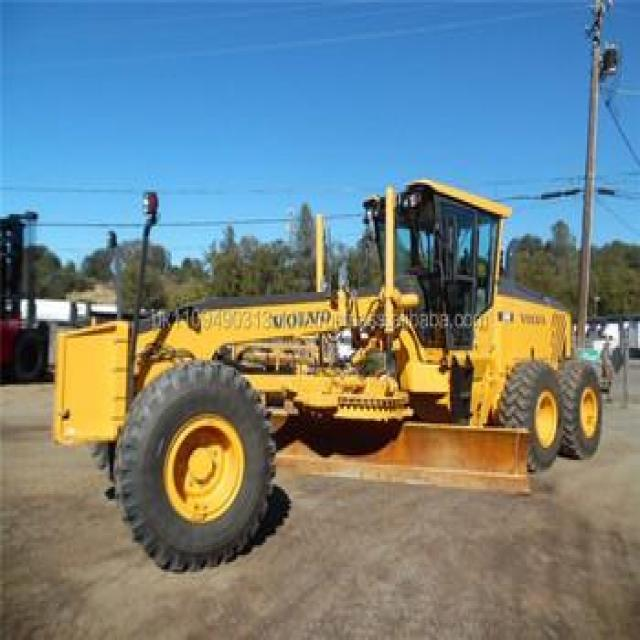Grader: (44, 156, 631, 569)
